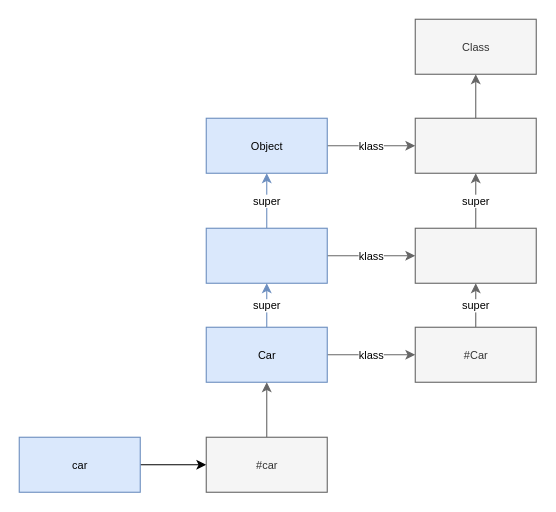
This 556x512 diagram has some shape labels left out. The centre of each missing label's shape, as x and y in pixels:
"#Object" goes at (x=475, y=145).
"#Vehicle" goes at (x=475, y=255).
"Vehicle" goes at (x=266, y=255).
